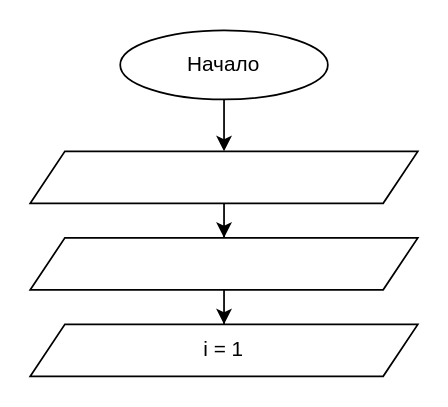
Image size: 448x407. Some labels were removed from this diagram. Here are the shapes that lost their labels. From the top down, the centre of each, then its label:
point 223,176: ввод n
point 223,263: инициализация input_array
